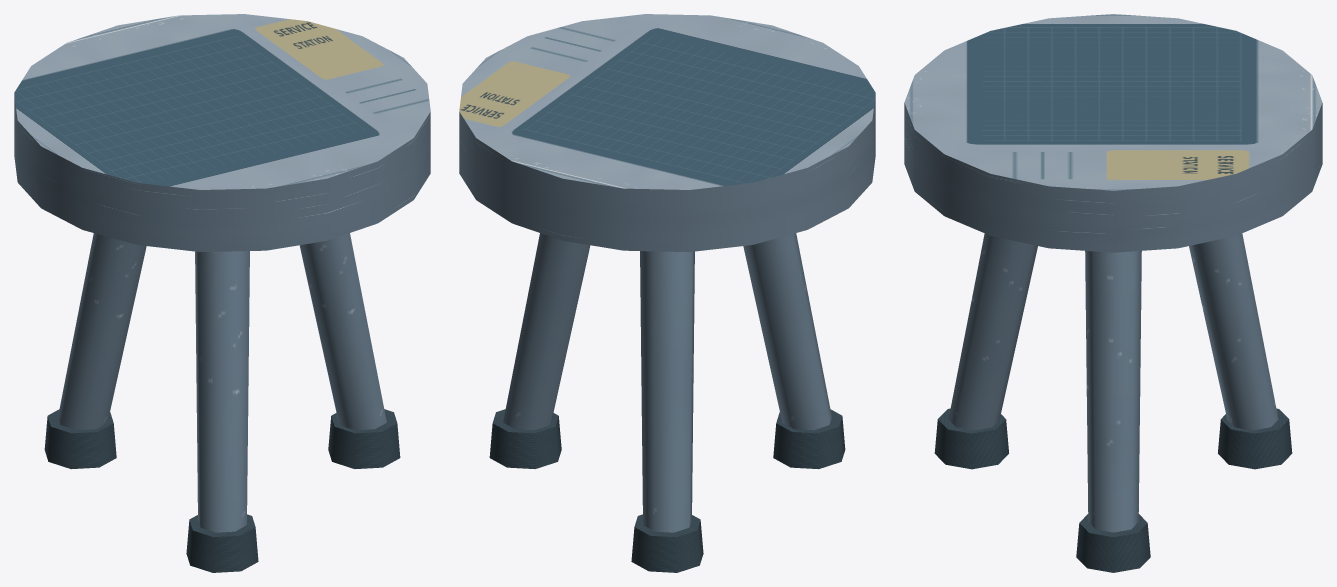
Rendered from SM_Stool.glb.
3 views of the same model, side by side, from view 1: azimuth 30°, elevation 25°; view 2: azimuth 150°, elevation 25°; view 3: azimuth 270°, elevation 25° (orthographic).
Visible parts, largest first — view 1: SM_Stool; view 2: SM_Stool; view 3: SM_Stool.
Part boxes in pixels (left/top/right/bottom): SM_Stool: left=14, top=14, right=430, bottom=572; SM_Stool: left=459, top=14, right=875, bottom=572; SM_Stool: left=904, top=14, right=1322, bottom=572.
Size of the model in its own units: 0.55 by 0.56 by 0.55.
Materials: 1 (1 with a texture image).
